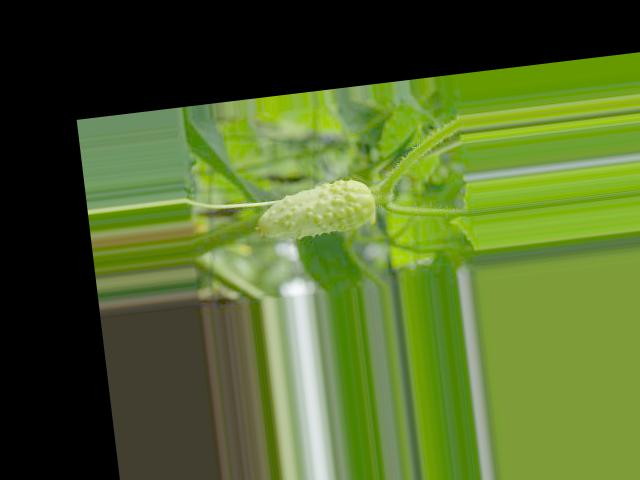cucumber: (249, 175, 378, 242)
